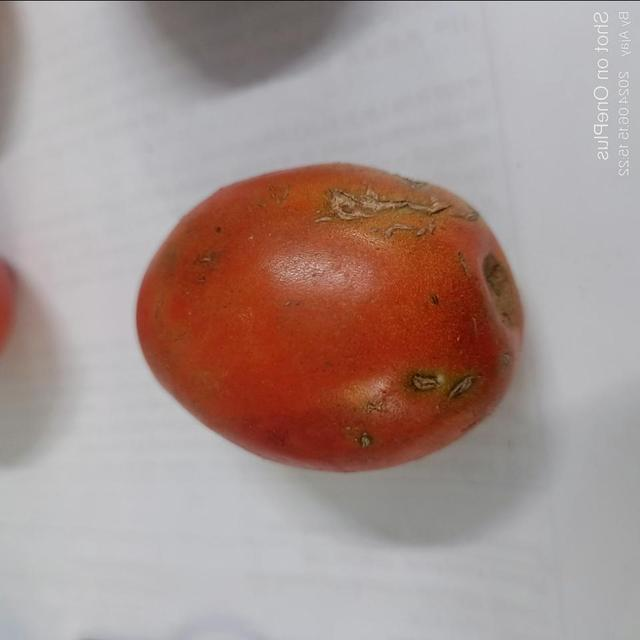Cracking Fruit: (119, 73, 428, 217)
